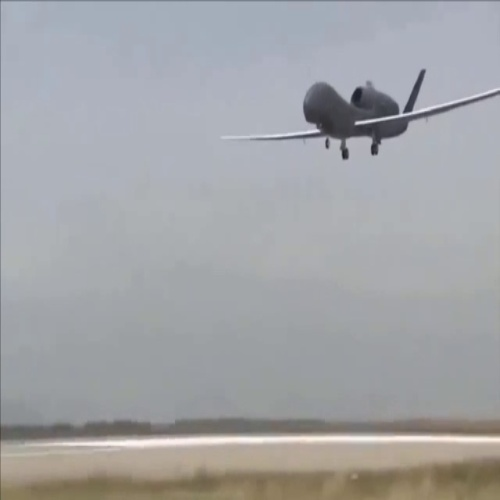uav870: (220, 67, 495, 164)
